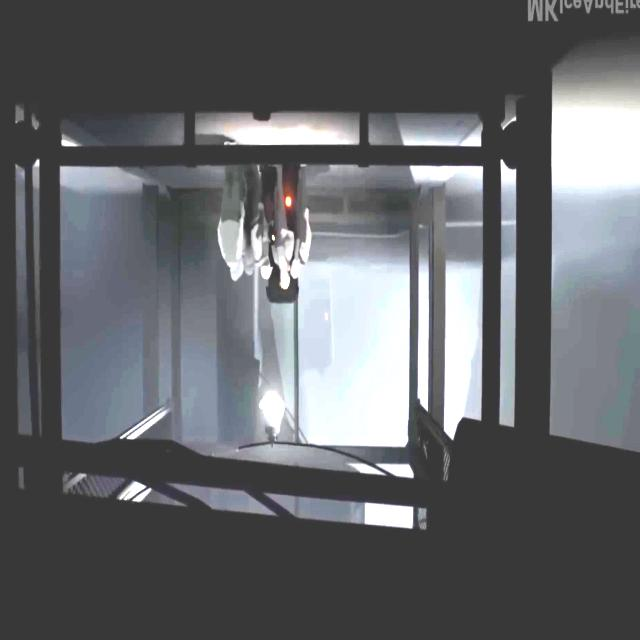zombie: (218, 166, 244, 282), (272, 163, 294, 290), (251, 166, 273, 280), (291, 165, 312, 279)
